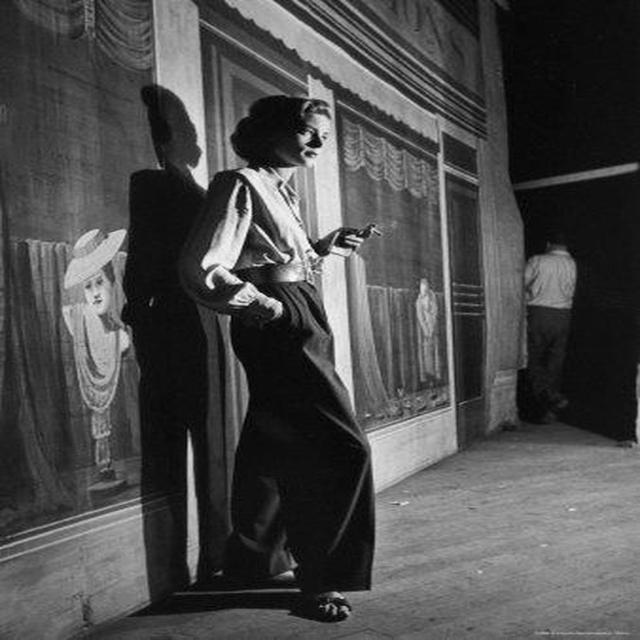smoking: (155, 90, 386, 319)
